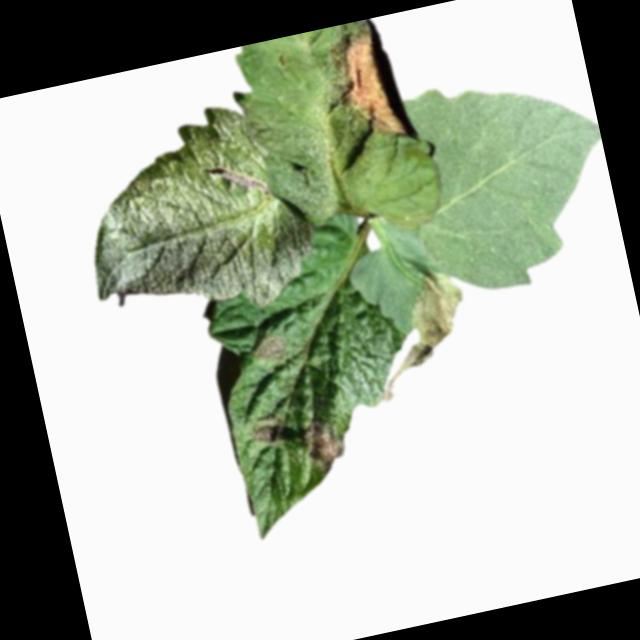Late_blight: (327, 22, 414, 152), (381, 268, 477, 378), (304, 418, 346, 475), (254, 333, 295, 365), (251, 420, 285, 447)
healthy: (63, 92, 323, 339), (395, 57, 625, 303)
